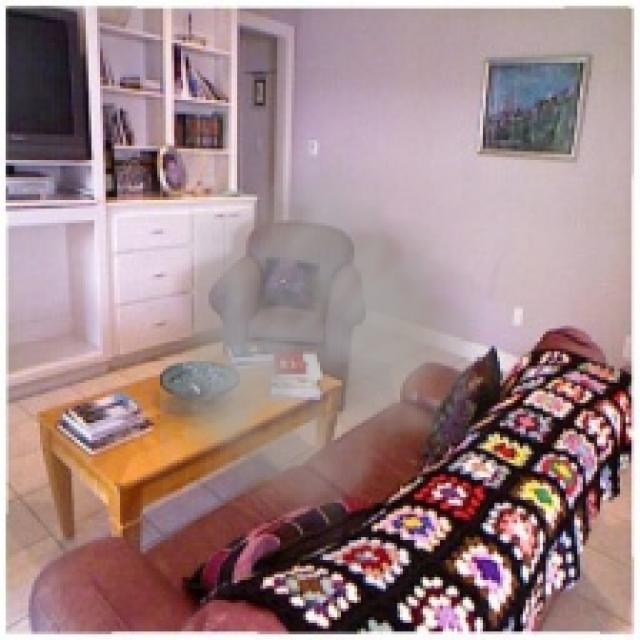Smoke: (160, 137, 517, 543)
